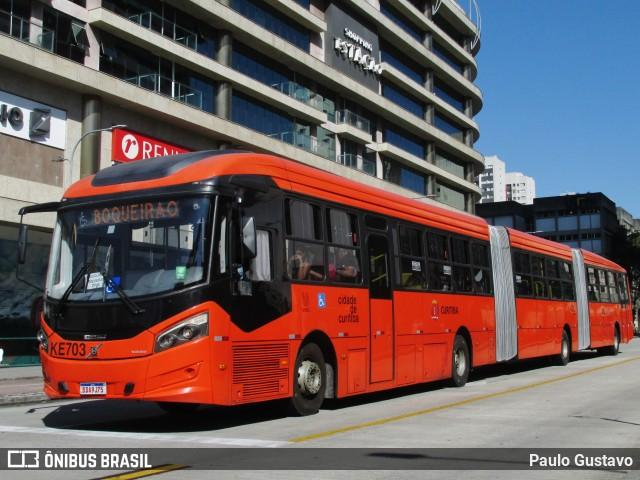BOQUEIRAO: (90, 197, 183, 229)
